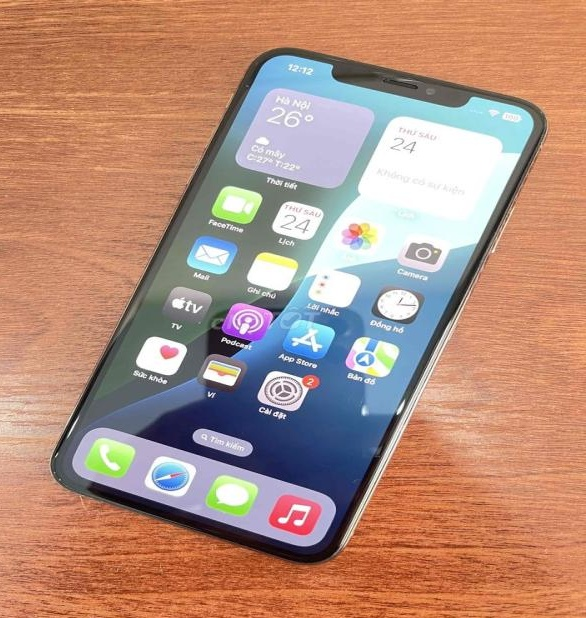scratch: (530, 104, 552, 123), (47, 468, 69, 486), (241, 77, 257, 96)
